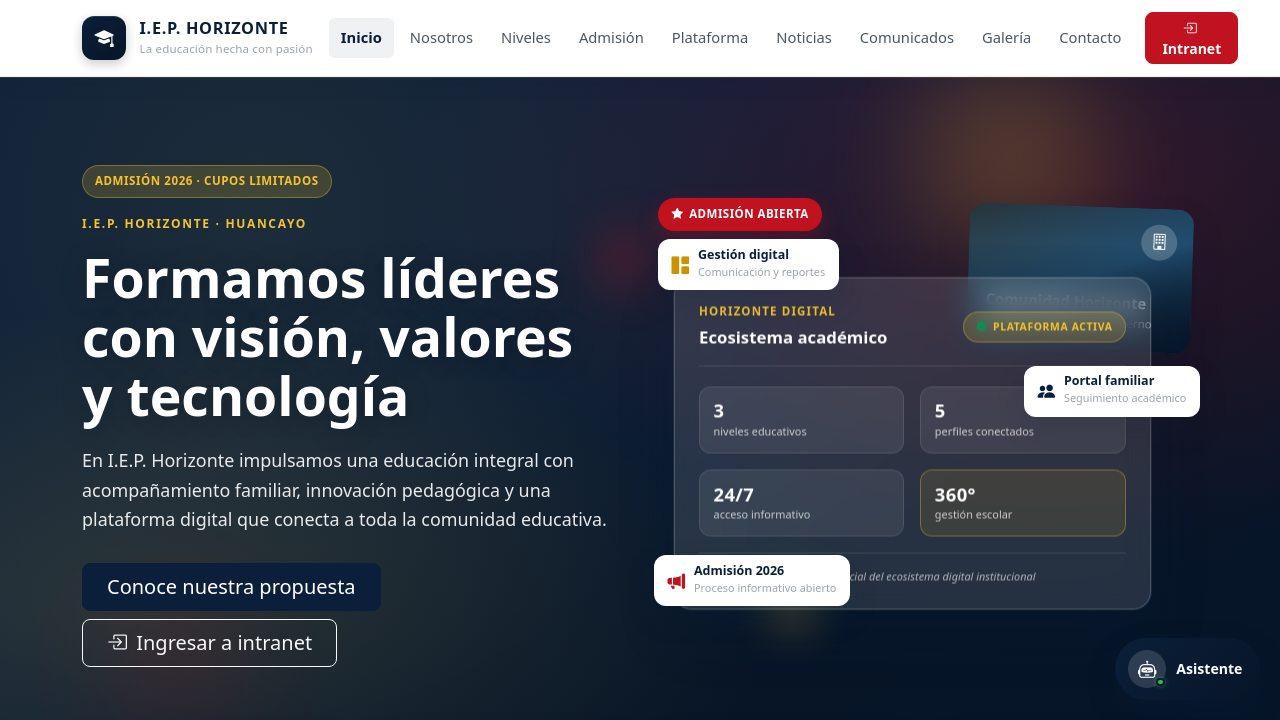
Web pública › carga la página de inicio y navega a contacto
Expected: the navigation bar with test id "public-navbar" is shown, [0,0,1279,77]
Click the link with test id "nav-contact": {"x": 1090, "y": 37} [1059,27,1121,47]
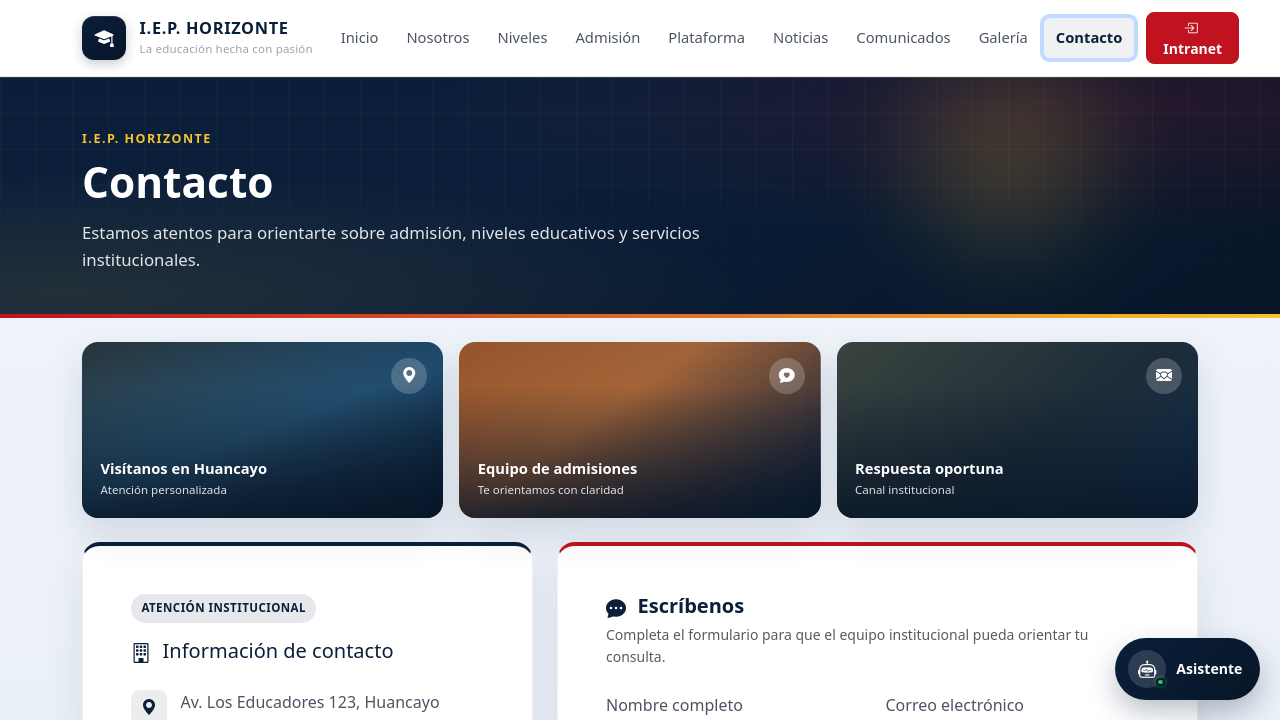
Expected: the form with test id "contact-form" is shown, [606,677,1149,719]
